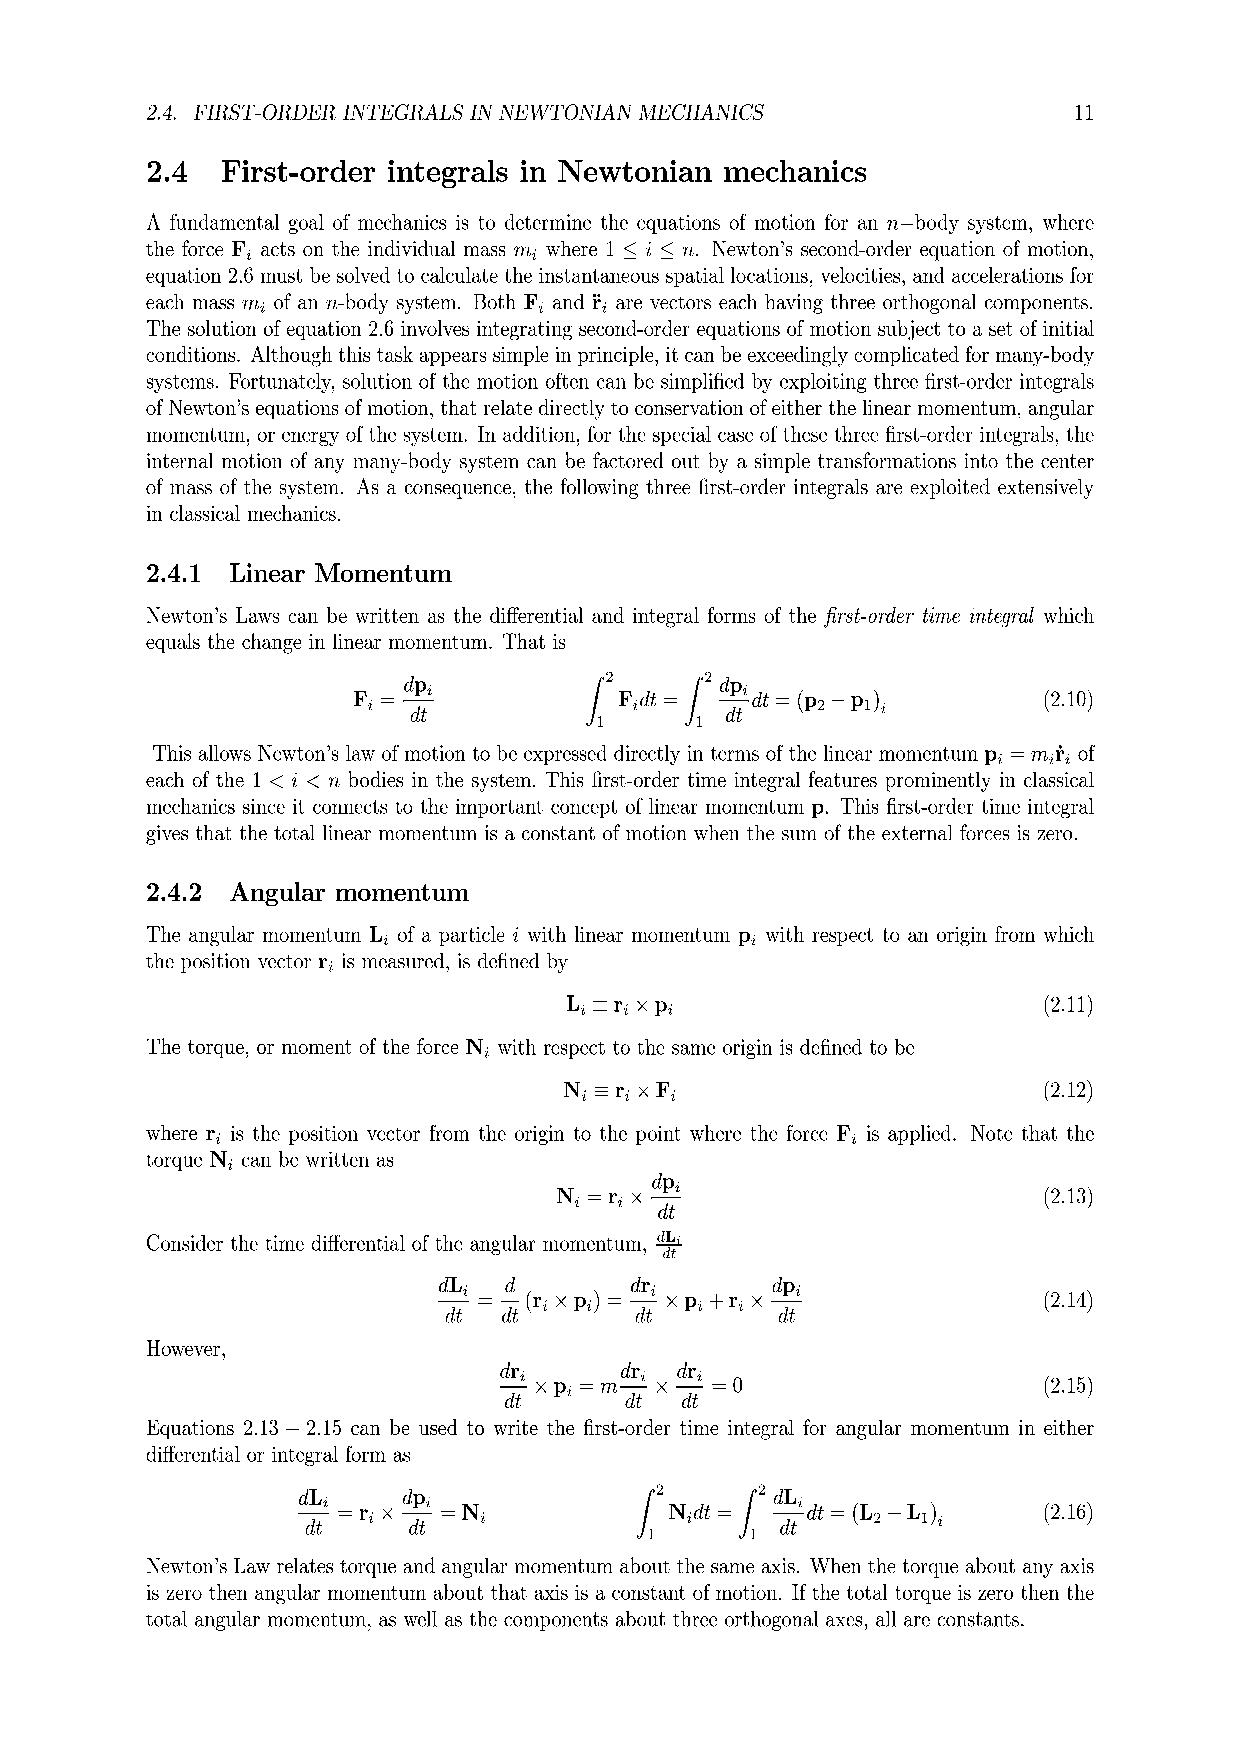chapter: (141, 152, 868, 195), (141, 874, 471, 906), (144, 556, 452, 588)
content: (141, 921, 1103, 1633), (141, 207, 1096, 530), (141, 599, 1096, 852)
content_chapter: (140, 97, 768, 125)
content_pagenumber: (1070, 93, 1094, 129)
